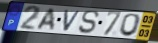2: (19, 5, 42, 31)
7: (103, 10, 124, 38)
A: (36, 8, 56, 31)
O: (118, 13, 143, 38)
S: (78, 10, 100, 35)
V: (62, 10, 82, 33)
